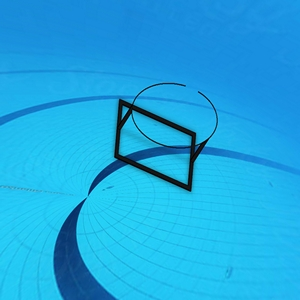circle: (112, 78, 223, 197)
